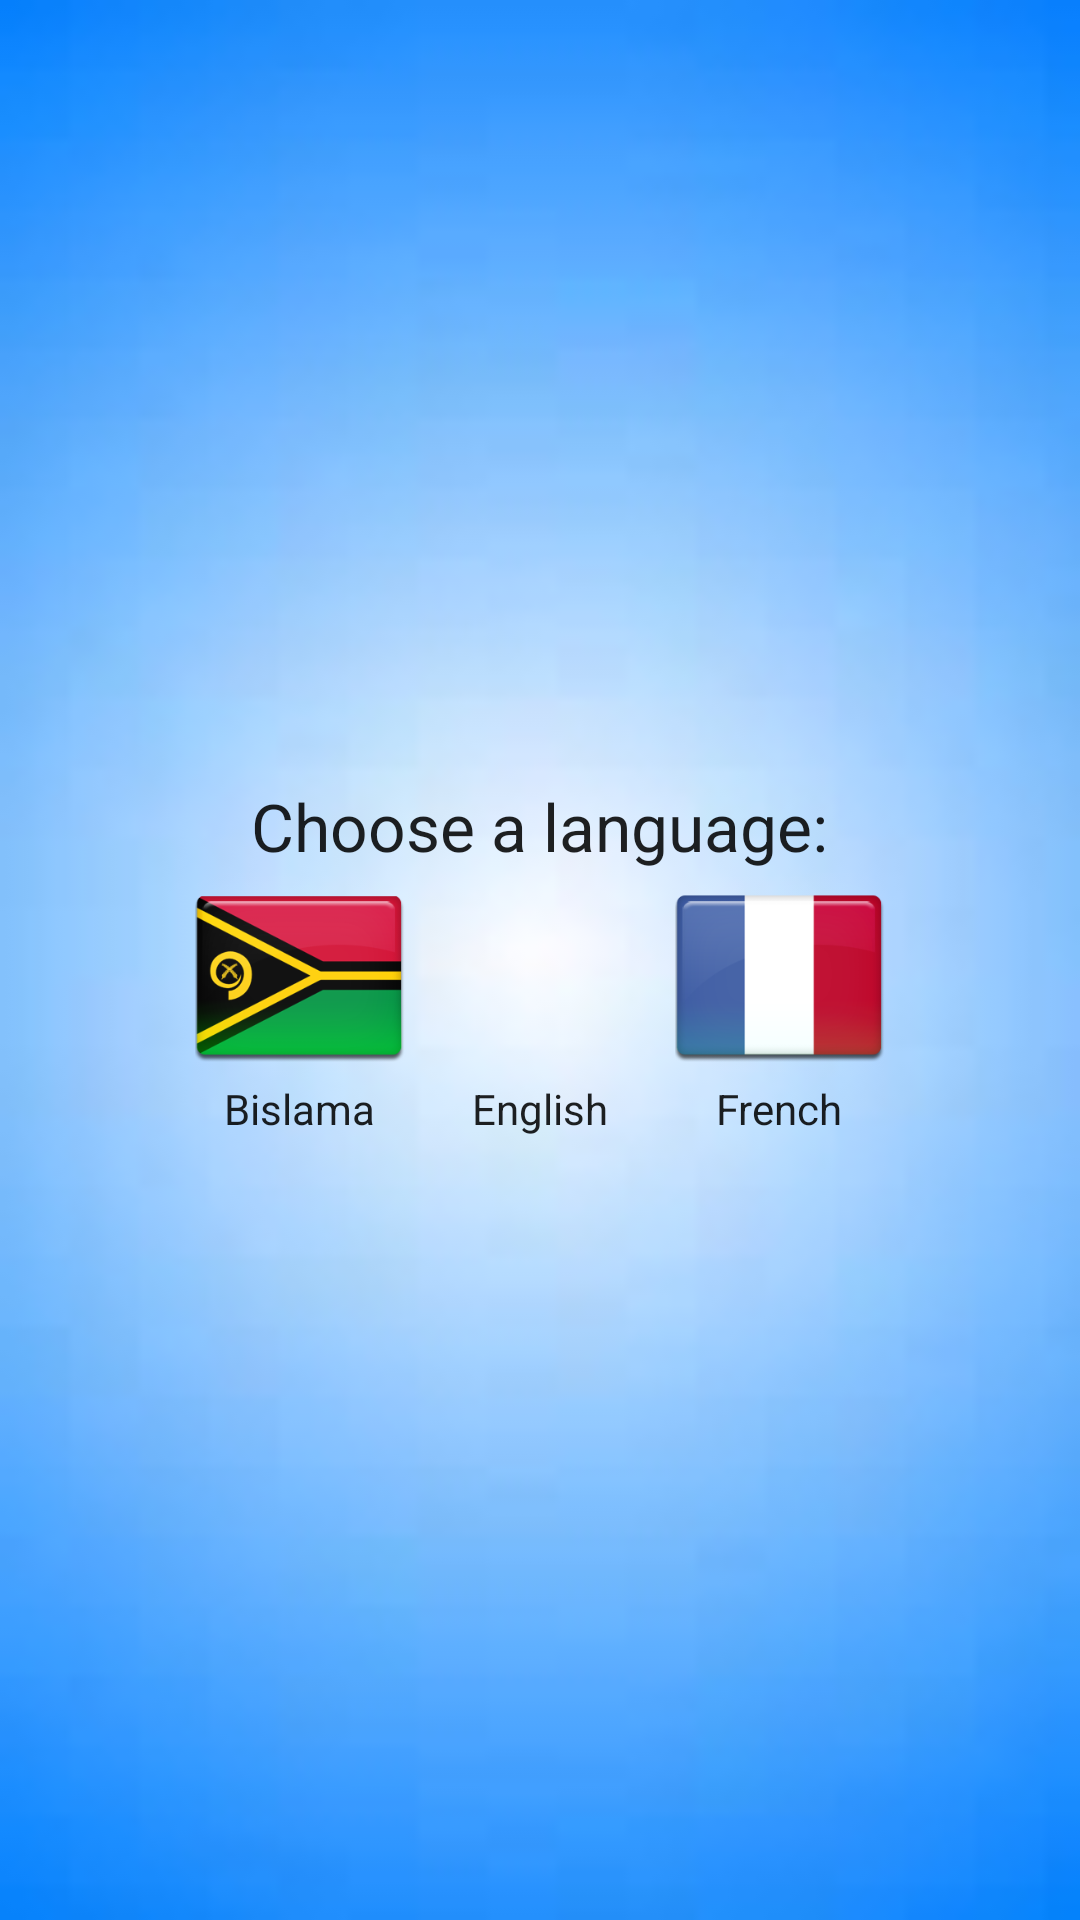

Screen size 1080x1920. Icon name, then its center in pixels as (x=x, y=y):
vanuatu: (x=300, y=975)
